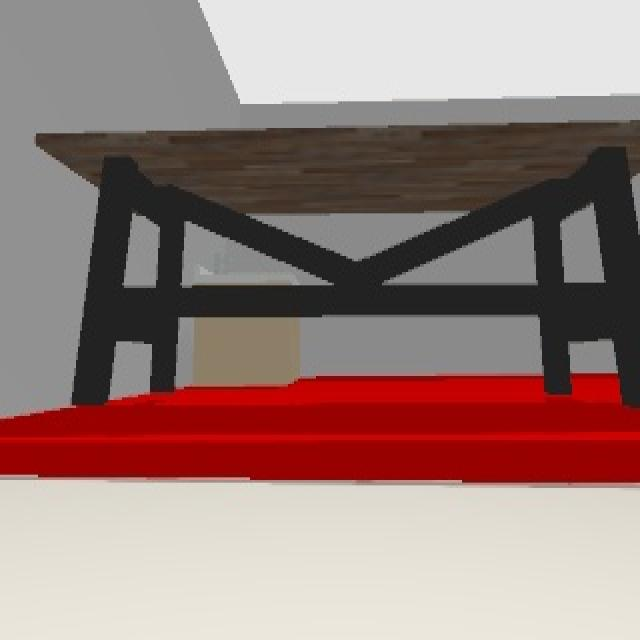dining: (25, 118, 640, 408)
